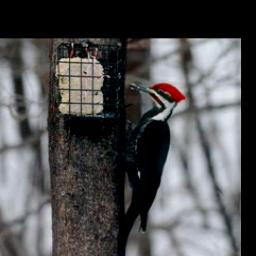Woodpecker: (98, 78, 186, 256)
